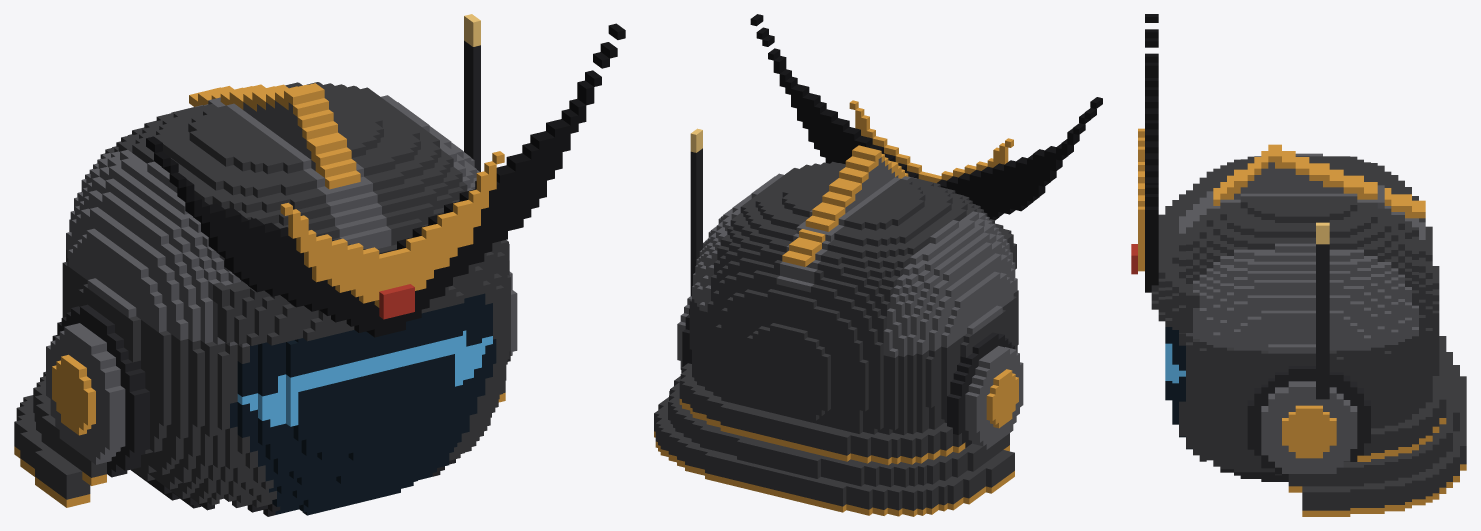
File: helios_warlord.glb
3 renders of one model, left to right at view 1: azimuth 30°, elevation 25°; view 2: azimuth 150°, elevation 25°; view 3: azimuth 270°, elevation 25°, orthographic. The views are drawn at different scales.
Parts seen in each view (by area): view 1: HeliosWarlord_Model; view 2: HeliosWarlord_Model; view 3: HeliosWarlord_Model.
Part boxes in pixels (x1=…): HeliosWarlord_Model: x1=14, y1=14, x2=625, y2=516; HeliosWarlord_Model: x1=654, y1=14, x2=1102, y2=516; HeliosWarlord_Model: x1=1131, y1=14, x2=1466, y2=516.
Size of the model in its own units: 1.32 by 1.21 by 1.08.
1 material, 1 textured.
